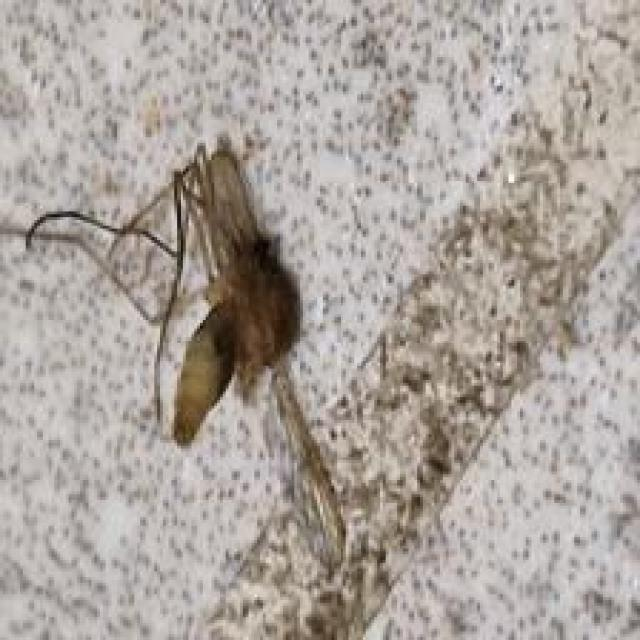Culex: (6, 138, 354, 576)
